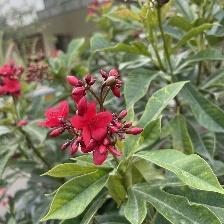jatropha: (73, 102, 116, 148)
